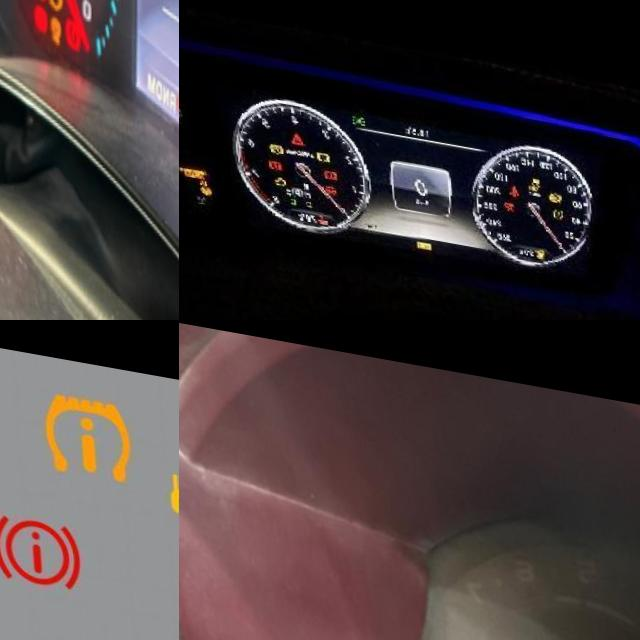Engine cooling system: (312, 206, 325, 217)
Low fuel level: (533, 233, 541, 243)
